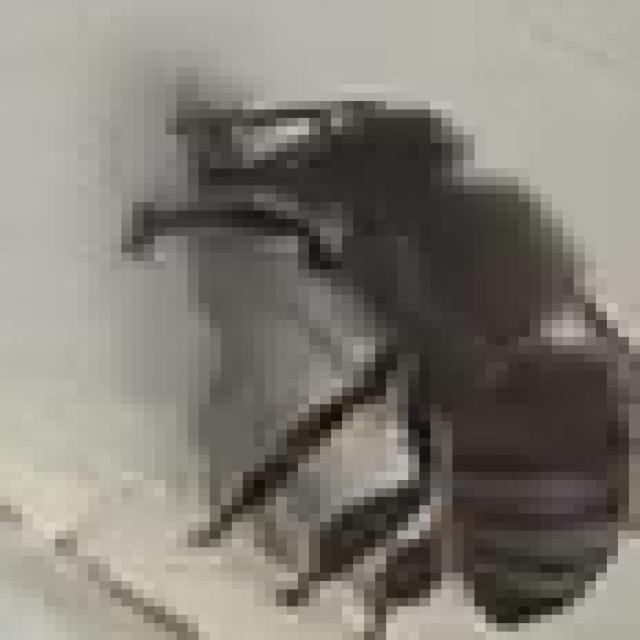honeybee: (108, 103, 620, 612)
